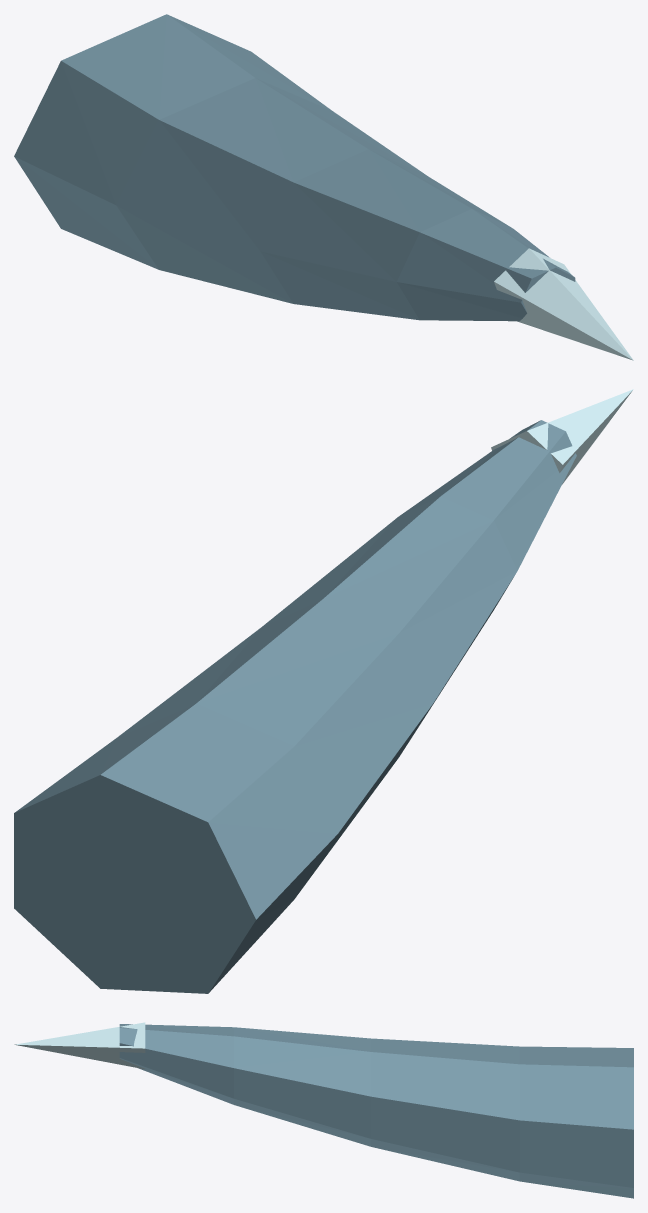
Rendered from frost_predator_tail.glb.
3 views of the same model, one above another, from view 1: azimuth 30°, elevation 25°; view 2: azimuth 150°, elevation 25°; view 3: azimuth 270°, elevation 25° (orthographic). The views are drawn at different scales.
Parts seen in each view (by area): view 1: frost_predator_tail; view 2: frost_predator_tail; view 3: frost_predator_tail.
Part boxes in pixels (box(x1,y1,x2,y2)): frost_predator_tail: box(14, 14, 633, 360); frost_predator_tail: box(14, 389, 633, 993); frost_predator_tail: box(14, 1022, 633, 1198).
Bounding box in the file's own units: 0.3004 × 0.3239 × 1.09.
